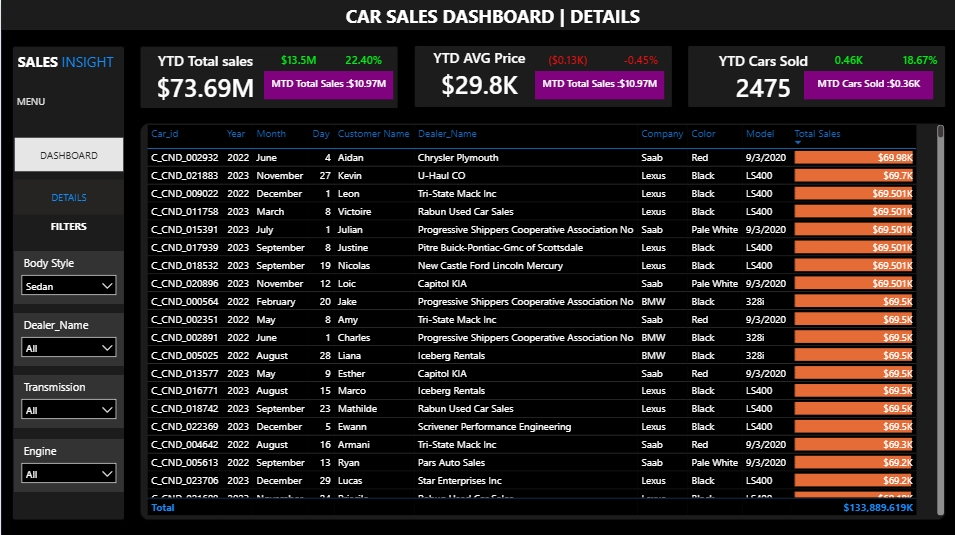

The page's visual inventory and layout, read from the dashboard file:
{"tool":"powerbi","page":{"name":"DETAILS","canvas":[1280,720],"ordinal":1},"visuals":[{"type":"card","title":"YTD Total sales","fields":{"Values":["car_data.YTD Total sales"]},"box":[176.4,68,193.7,72.3],"z":0},{"type":"card","fields":{"Values":["car_data.Sales Difference"]},"box":[331.1,63.6,135.9,36.1],"z":1000},{"type":"card","fields":{"Values":["car_data.YOY Sales growth"]},"box":[426.5,63.6,117.1,36.1],"z":2000},{"type":"card","fields":{"Values":["car_data.MTD KPI"]},"box":[351.3,95.4,173.5,37.6],"z":3000},{"type":"card","title":"YTD AVG Price","fields":{"Values":["car_data.YTD avg price"]},"box":[543.6,63.6,193.7,72.3],"z":4000},{"type":"card","fields":{"Values":["car_data.Avg price difference"]},"box":[691.1,63.6,135.9,36.1],"z":5000},{"type":"card","fields":{"Values":["car_data.Yoy avg price growth"]},"box":[788,63.6,135.9,36.1],"z":6000},{"type":"card","fields":{"Values":["car_data.MTD KPI"]},"box":[714.2,95.4,173.5,37.6],"z":7000},{"type":"card","title":"YTD Cars Sold","fields":{"Values":["car_data.YTD Cars sold"]},"box":[923.9,68,193.7,72.3],"z":8000},{"type":"card","fields":{"Values":["car_data.Cars sold diffe"]},"box":[1067,63.6,135.9,36.1],"z":9000},{"type":"card","fields":{"Values":["car_data.YOY car sold growth"]},"box":[1179.8,63.6,99.8,36.1],"z":10000},{"type":"card","fields":{"Values":["car_data.MTD CARS SOLD KPI"]},"box":[1074.2,95.4,173.5,37.6],"z":11000},{"type":"textbox","box":[456.9,0,467,46.3],"z":12000},{"type":"slicer","fields":{"Values":["car_data.Body Style"]},"box":[17.3,335.4,147.5,70.8],"z":13000},{"type":"slicer","fields":{"Values":["car_data.Dealer_Name"]},"box":[17.3,419.3,147.5,70.8],"z":14000},{"type":"slicer","fields":{"Values":["car_data.Transmission"]},"box":[17.3,501.7,147.5,70.8],"z":15000},{"type":"slicer","fields":{"Values":["car_data.Engine"]},"box":[17.3,587,147.5,70.8],"z":16000},{"type":"textbox","box":[15.9,289.2,148.9,46.3],"z":17000},{"type":"tableEx","fields":{"Values":["car_data.Car_id","calender table.Date.Variation.Date Hierarchy.Year","calender table.Date.Variation.Date Hierarchy.Month","calender table.Date.Variation.Date Hierarchy.Day","car_data.Customer Name","car_data.Dealer_Name","car_data.Company","car_data.Color","car_data.Model","car_data.Price ($)"]},"box":[189.4,161.9,1077.1,533.5],"z":18000},{"type":"pageNavigator","box":[17.3,183.6,147.5,105.5],"z":19000},{"type":"textbox","box":[17.3,63.6,148.9,40.5],"z":20000},{"type":"textbox","box":[15.9,121.4,68,37.6],"z":21000}]}

Visuals, with their boxes in screenshot pixels (x1, y1, x2, y2), scaled from the page's 1280x720 canvas onto the 955x535 screenshot:
"YTD Total sales" card: region(132, 51, 276, 104)
card - car_data.Sales Difference: region(247, 47, 348, 74)
card - car_data.YOY Sales growth: region(318, 47, 406, 74)
card - car_data.MTD KPI: region(262, 71, 392, 99)
"YTD AVG Price" card: region(406, 47, 550, 101)
card - car_data.Avg price difference: region(516, 47, 617, 74)
card - car_data.Yoy avg price growth: region(588, 47, 689, 74)
card - car_data.MTD KPI: region(533, 71, 662, 99)
"YTD Cars Sold" card: region(689, 51, 834, 104)
card - car_data.Cars sold diffe: region(796, 47, 897, 74)
card - car_data.YOY car sold growth: region(880, 47, 954, 74)
card - car_data.MTD CARS SOLD KPI: region(801, 71, 931, 99)
textbox: region(341, 0, 689, 34)
slicer - car_data.Body Style: region(13, 249, 123, 302)
slicer - car_data.Dealer_Name: region(13, 312, 123, 364)
slicer - car_data.Transmission: region(13, 373, 123, 425)
slicer - car_data.Engine: region(13, 436, 123, 489)
textbox: region(12, 215, 123, 249)
tableEx - car_data.Car_id x calender table.Date.Variation.Date Hierarchy.Year: region(141, 120, 945, 517)
pageNavigator: region(13, 136, 123, 215)
textbox: region(13, 47, 124, 77)
textbox: region(12, 90, 63, 118)
